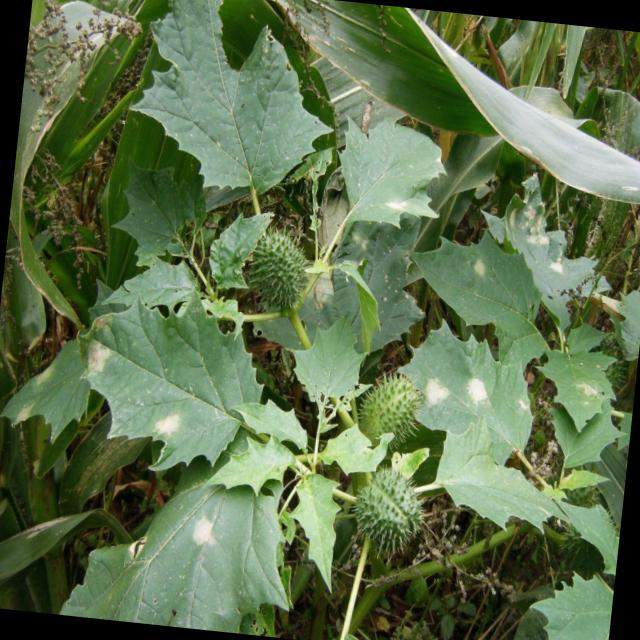Poisonous-Datura_Stramonium: (81, 27, 512, 640), (474, 270, 640, 640)
